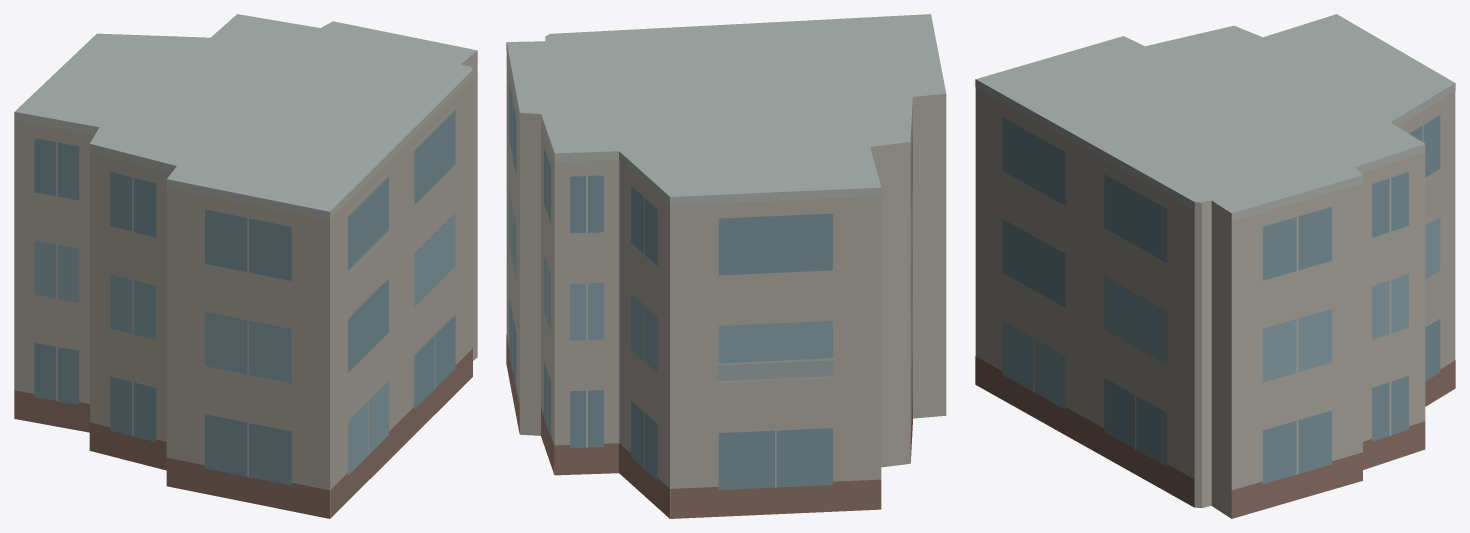
Rendered from survey-upis-32759399.glb.
3 renders of one model, left to right at view 1: azimuth 30°, elevation 25°; view 2: azimuth 150°, elevation 25°; view 3: azimuth 270°, elevation 25°, orthographic. The views are drawn at different scales.
Parts seen in each view (by area): view 1: survey-upis-32759399.tmp; view 2: survey-upis-32759399.tmp; view 3: survey-upis-32759399.tmp.
Part boxes in pixels (<box>): survey-upis-32759399.tmp: <box>14,14,477,518</box>; survey-upis-32759399.tmp: <box>506,14,946,518</box>; survey-upis-32759399.tmp: <box>975,14,1455,518</box>.
Size of the model in its own units: 12.81 by 9.15 by 13.03.
